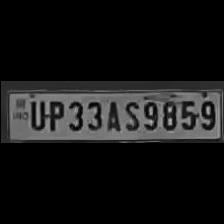3: (64, 97, 84, 130), (84, 97, 102, 130)
5: (177, 97, 197, 131)
8: (159, 97, 177, 130)
9: (197, 97, 217, 131), (141, 97, 159, 130)
A: (102, 98, 120, 132)
P: (43, 98, 63, 132)
S: (122, 97, 140, 130)
U: (26, 97, 44, 130)
